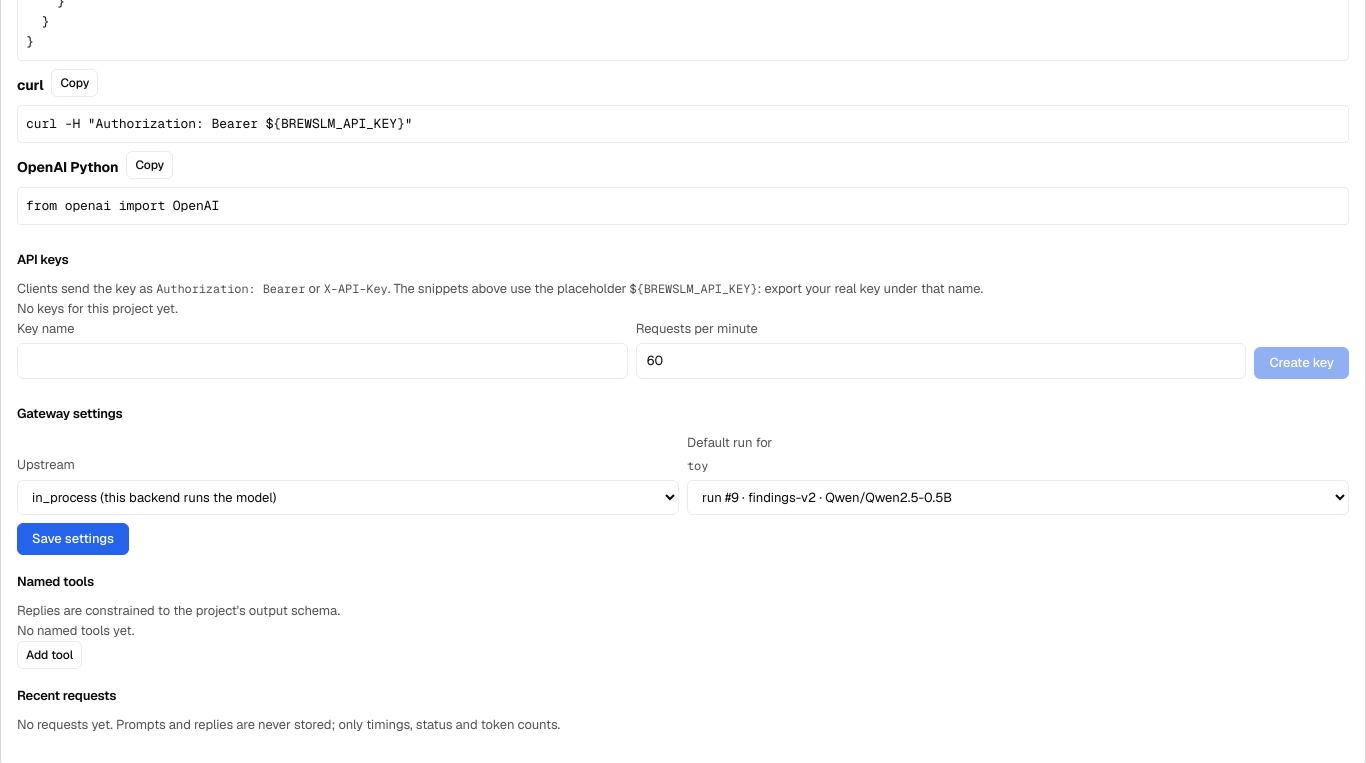
Test case: GatewayCard › reads errors from metadata.errors too
(page scrolled)
Select "openai_compatible (vLLM, Ollama, ...)" in the dropdown with test id "gateway-upstream" at (348, 497), box [17, 480, 679, 514]
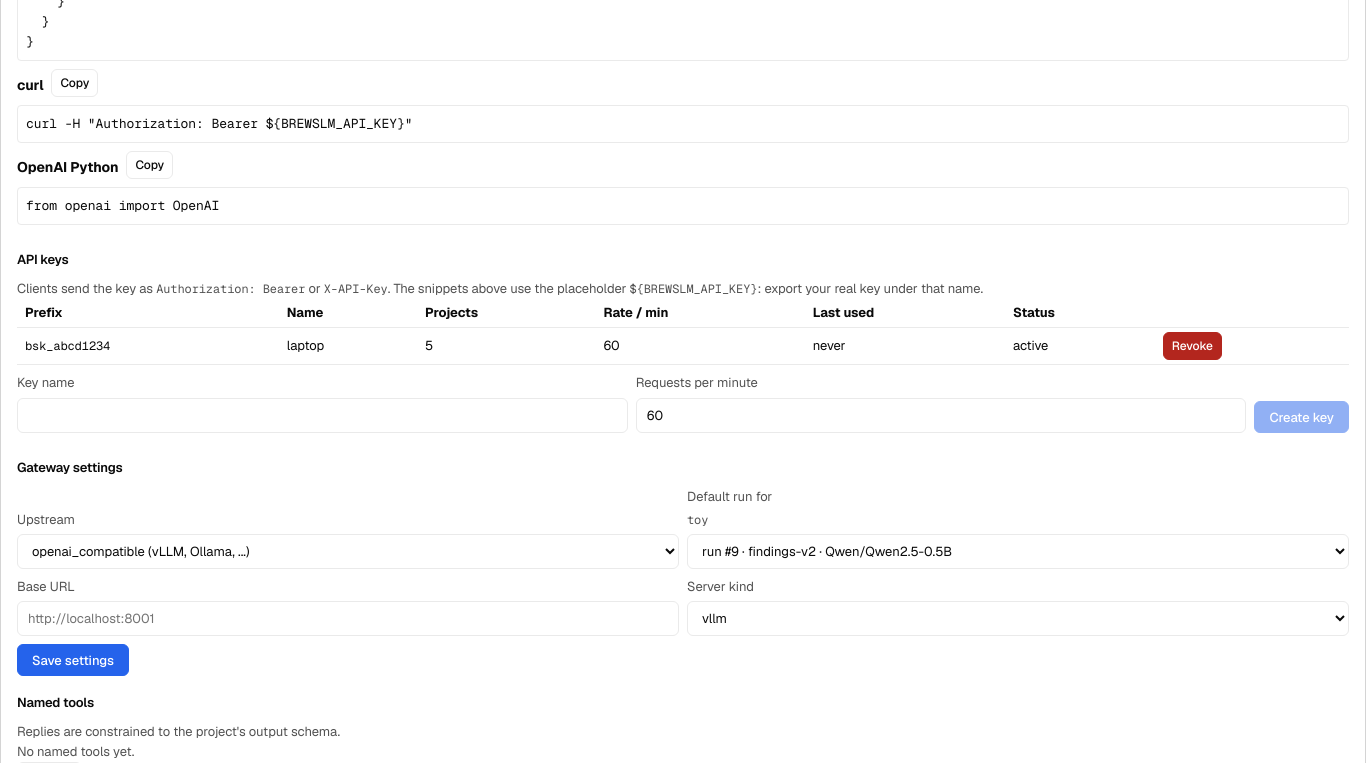
Click the button with test id "gateway-settings-save" at (73, 660), box [17, 644, 129, 676]
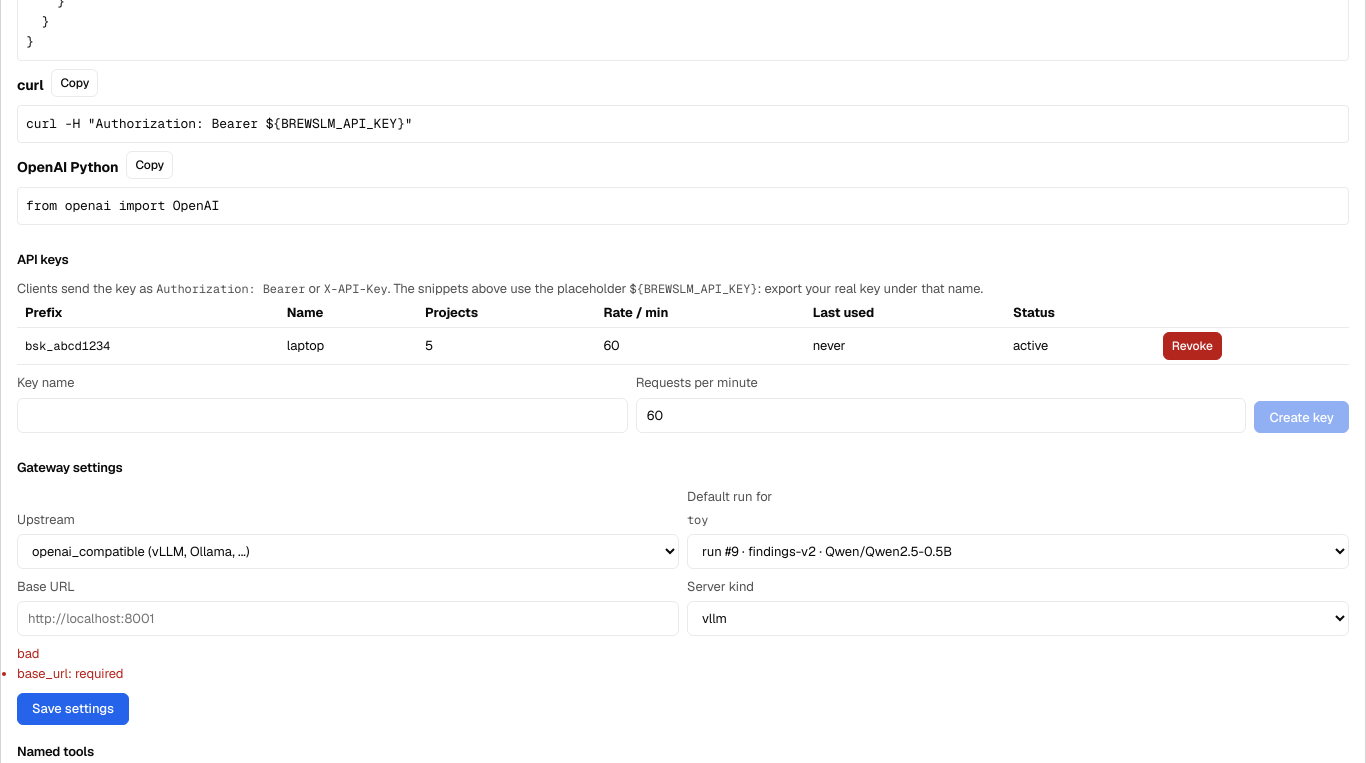
Check: the list item with test id "gateway-error-base_url" shows "required", box [75, 666, 124, 682]
